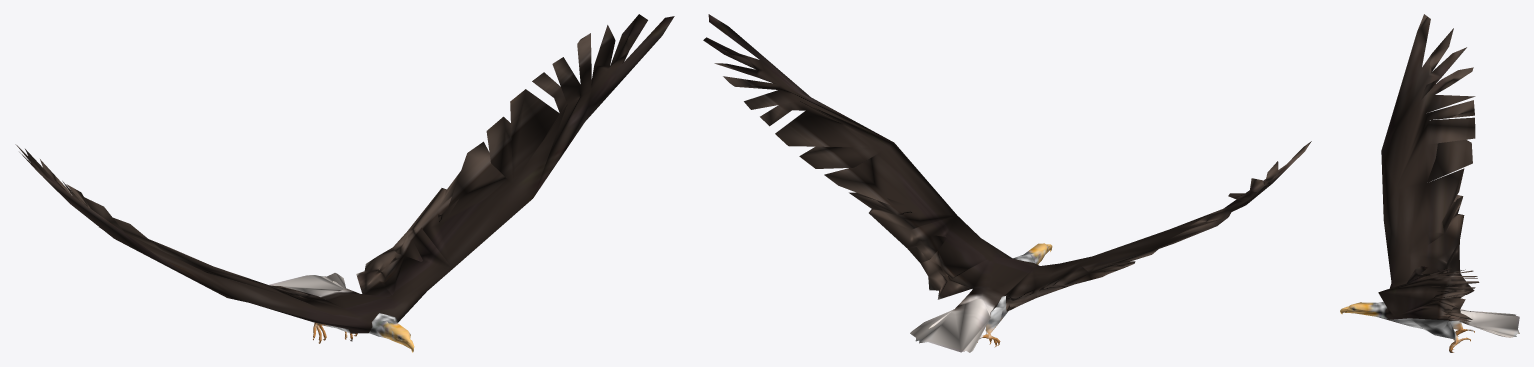
Rendered from eager.obj.
3 renders of one model, left to right at view 1: azimuth 30°, elevation 25°; view 2: azimuth 150°, elevation 25°; view 3: azimuth 270°, elevation 25°, orthographic. The views are drawn at different scales.
Parts seen in each view (by area): view 1: donhua_01_laoyingdonhua_01_ying_eagle_2; view 2: donhua_01_laoyingdonhua_01_ying_eagle_2; view 3: donhua_01_laoyingdonhua_01_ying_eagle_2.
Boxes of the visible parts, <box> form: donhua_01_laoyingdonhua_01_ying_eagle_2: <box>15,14,674,352</box>; donhua_01_laoyingdonhua_01_ying_eagle_2: <box>703,14,1311,352</box>; donhua_01_laoyingdonhua_01_ying_eagle_2: <box>1340,14,1519,352</box>.
Size of the model in its own units: 49.82 by 21.06 by 16.12.
1 material, 1 textured.
